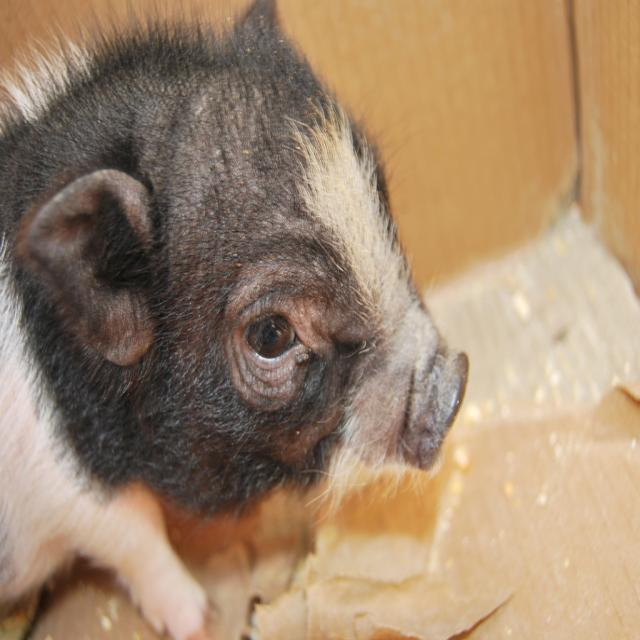Pig: (0, 0, 469, 639)
